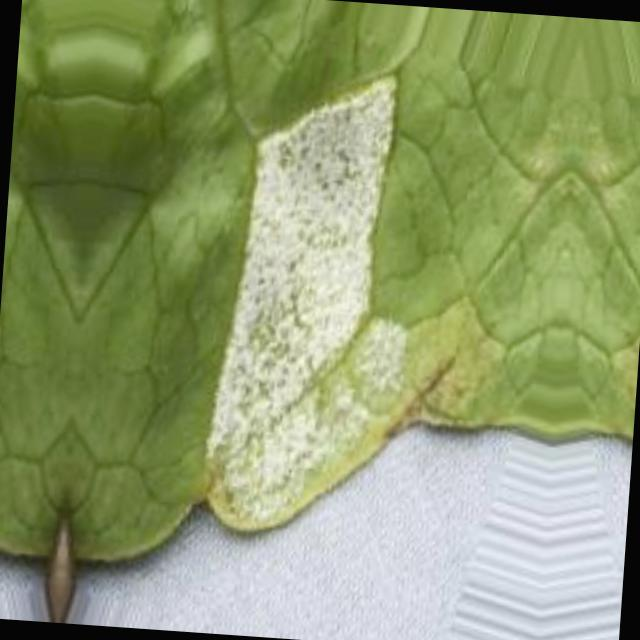Downy_mildew: (202, 63, 440, 519)
